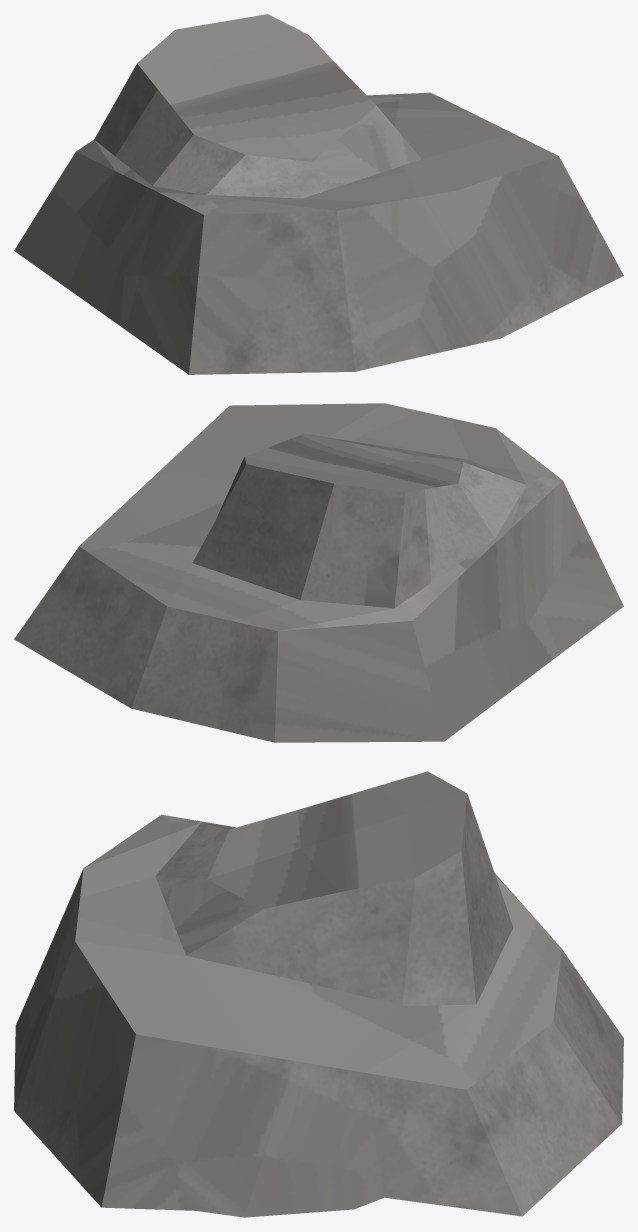
Rendered from petite pierre 2.fbx.
3 views of the same model, one above another, from view 1: azimuth 30°, elevation 25°; view 2: azimuth 150°, elevation 25°; view 3: azimuth 270°, elevation 25° (orthographic). The views are drawn at different scales.
Parts seen in each view (by area): view 1: Cube.007; view 2: Cube.007; view 3: Cube.007.
Part boxes in pixels (left/top/right/bottom): Cube.007: left=14, top=14, right=623, bottom=374; Cube.007: left=14, top=403, right=623, bottom=742; Cube.007: left=14, top=771, right=623, bottom=1217.
Size of the model in its own units: 40.76 by 18.68 by 41.15.
